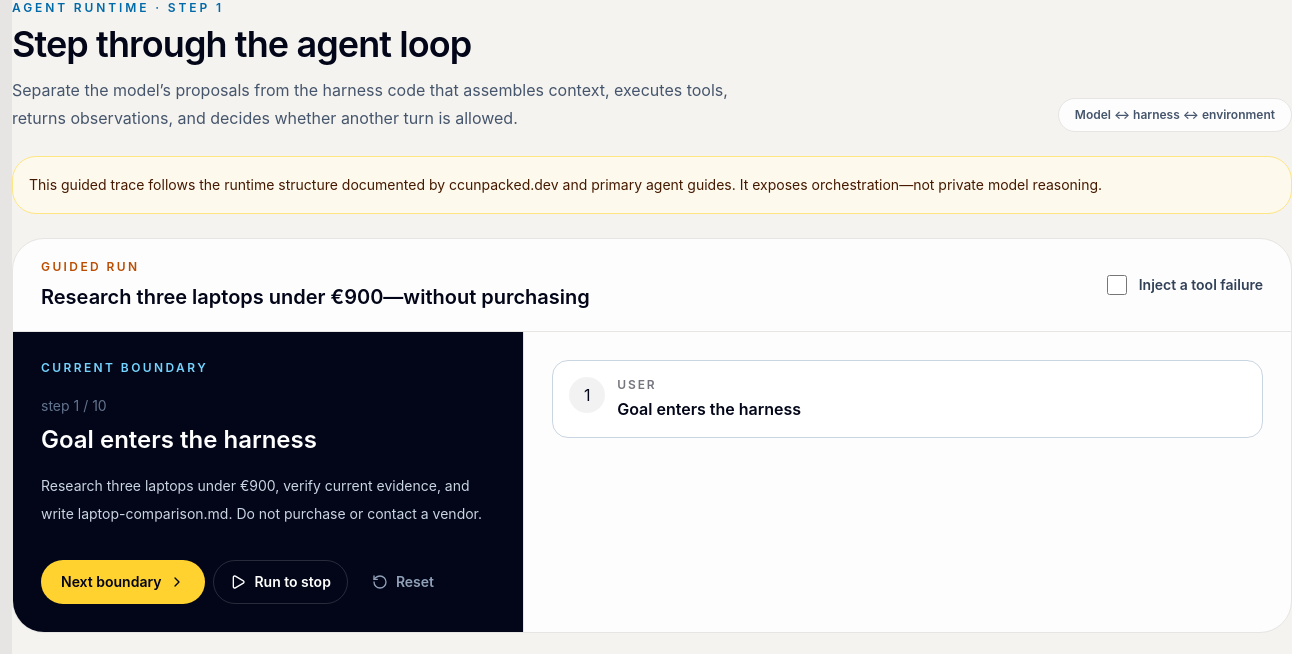
Test case: AgentLoopLabPage › turns a tool failure into a visible recovery observation
Click the checkbox with test id "agent-loop-failure-toggle".
click(1117, 285)  # box [1107,275,1127,295]
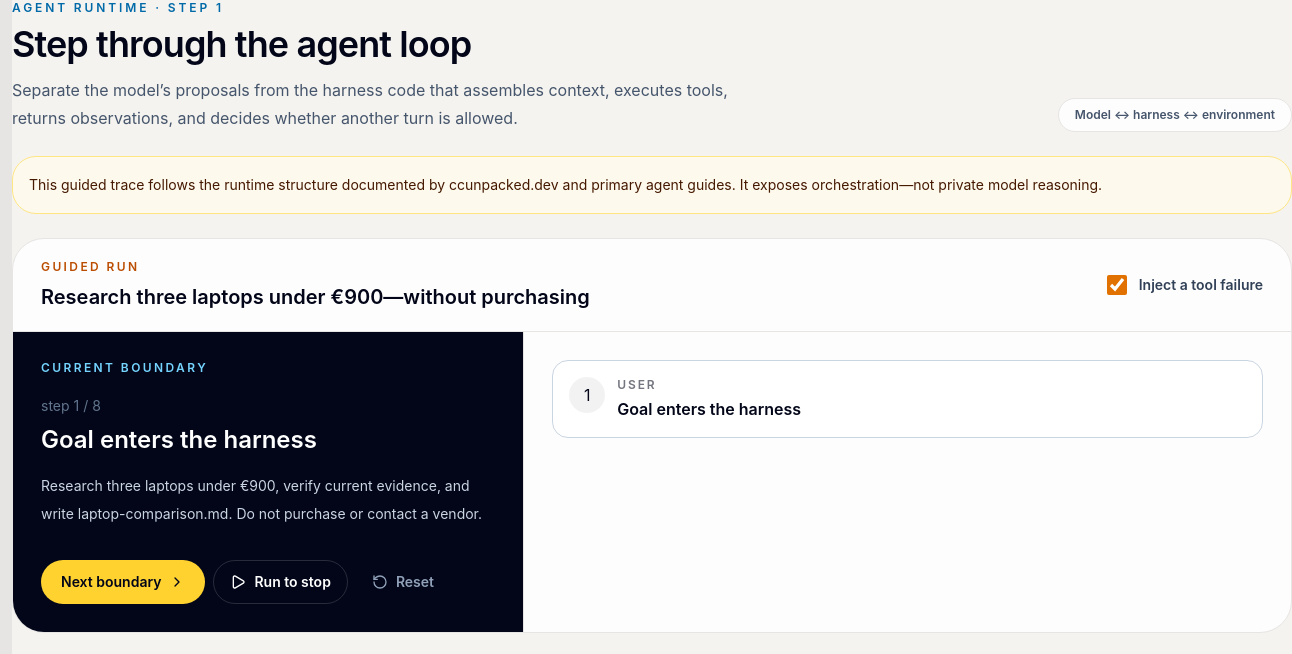
Click the button with test id "agent-loop-run".
click(281, 582)  # box [214,560,348,604]
(page scrolled)
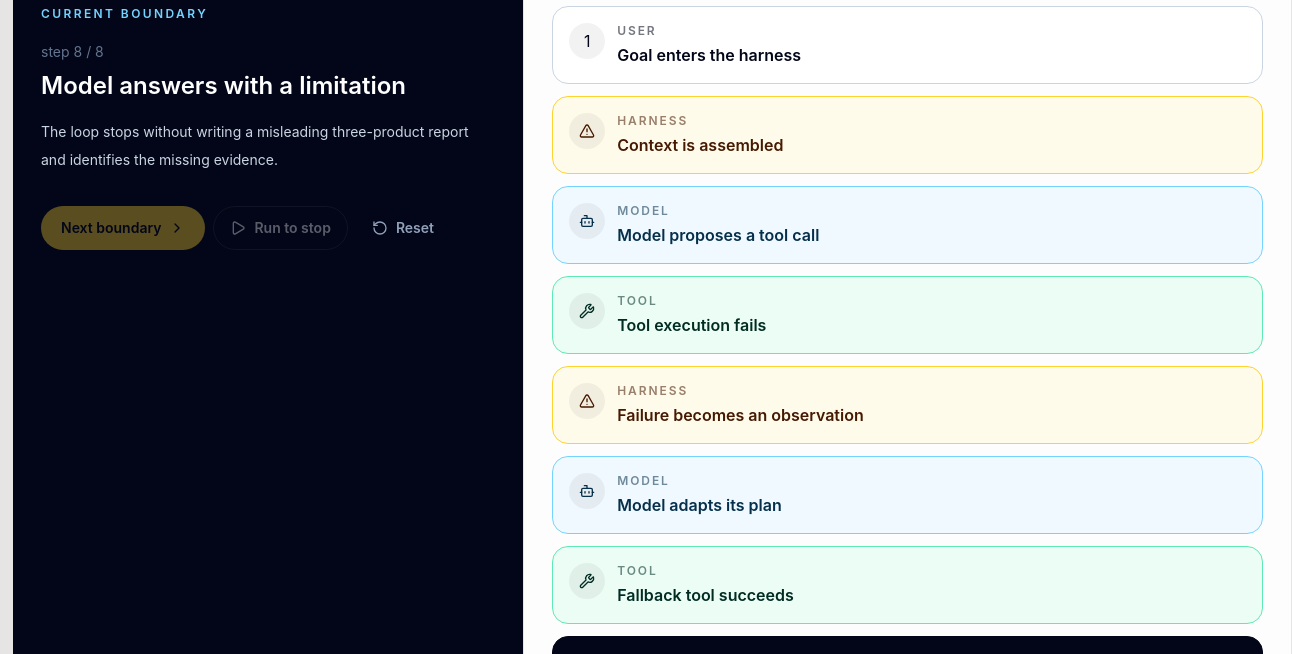
Now the list with test id "agent-loop-trace" shows "Tool execution fails", box [617,315,766,335]
Now the list with test id "agent-loop-trace" shows "Model adapts its plan", box [617,495,782,515]
